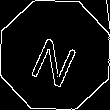N_NE: (26, 24, 84, 86)
